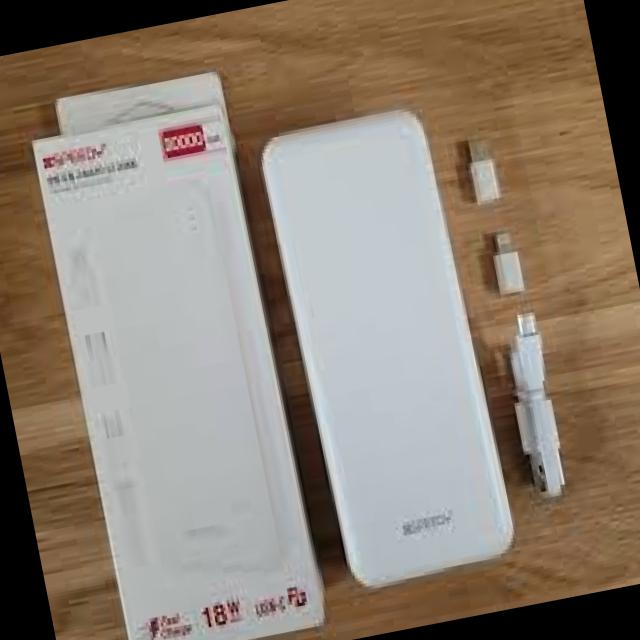power_bank: (256, 100, 524, 590), (94, 179, 298, 591)
